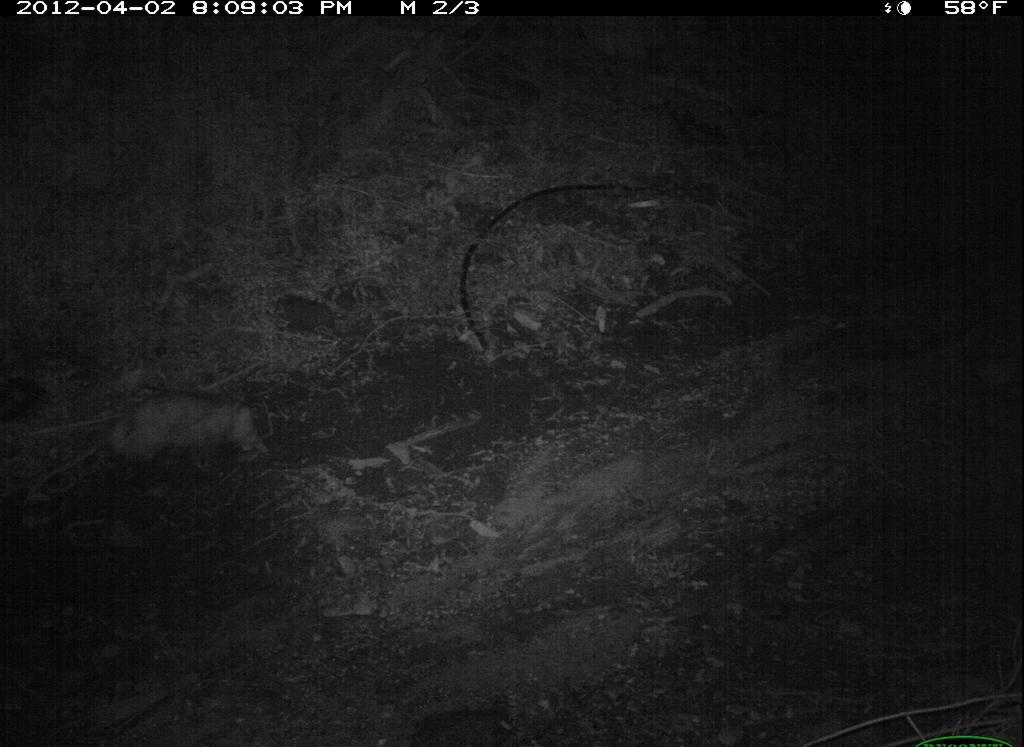opossum: (57, 379, 278, 479)
